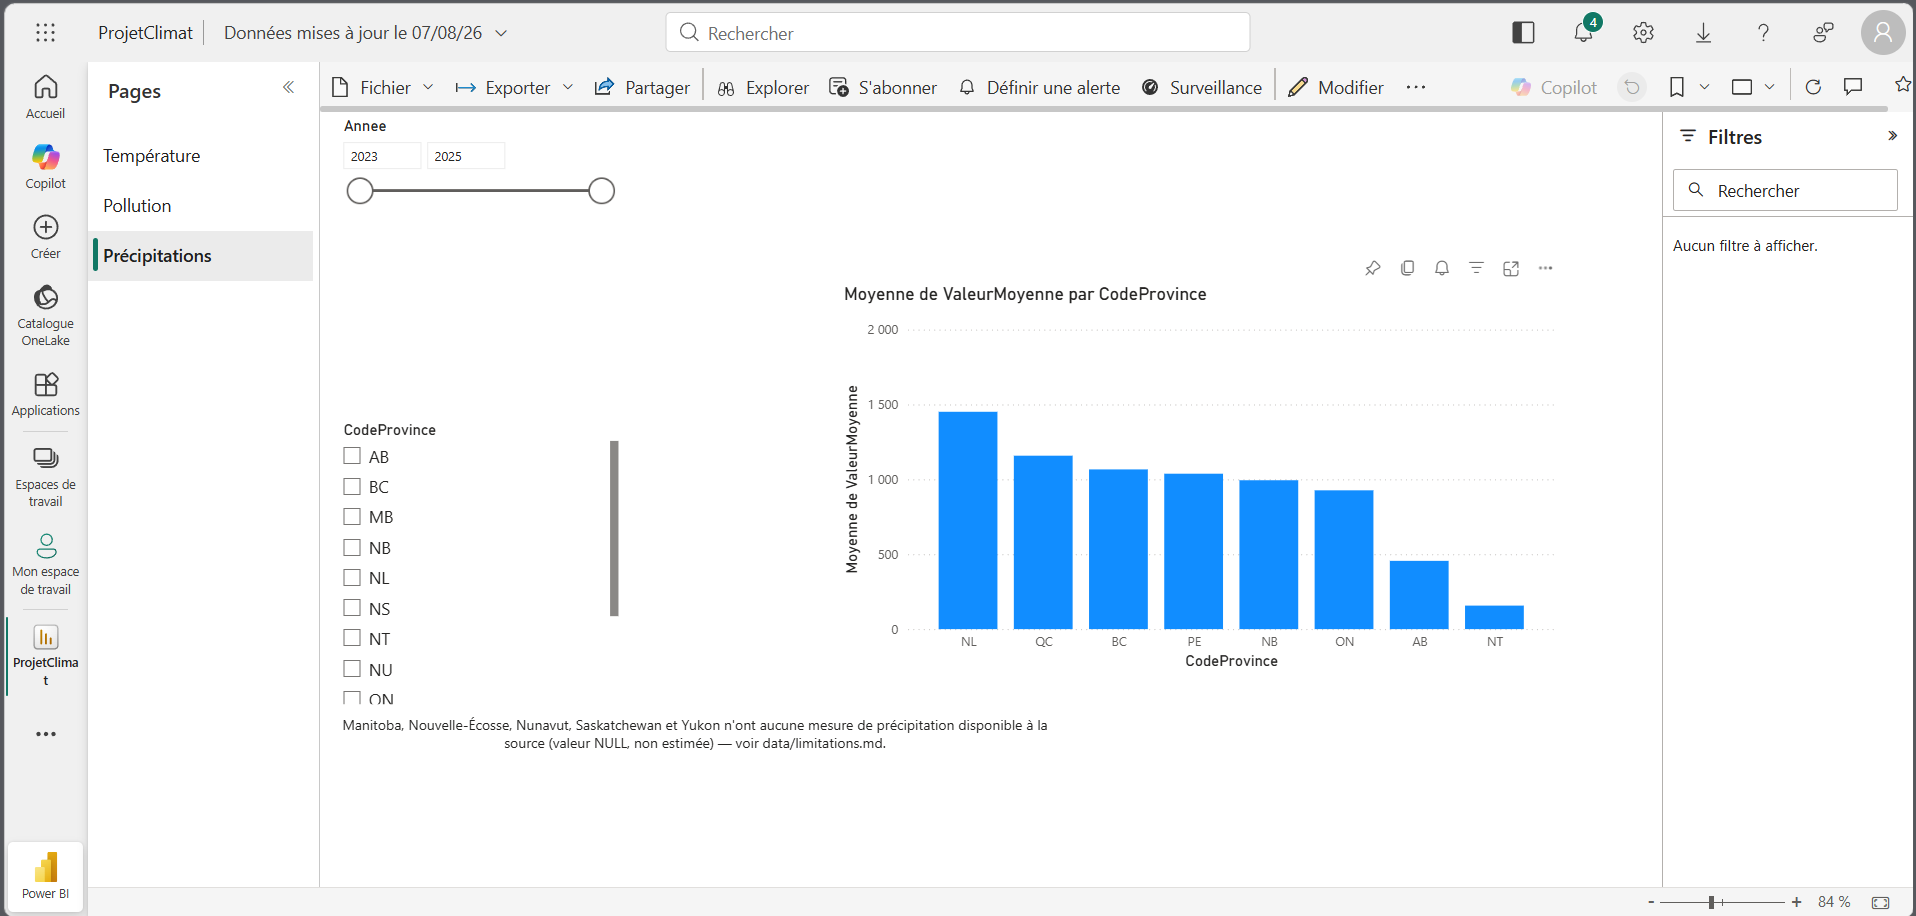

What the dashboard file says about the page in this screenshot:
{"tool":"powerbi","page":{"name":"Précipitations","canvas":[1280,720],"ordinal":2},"visuals":[{"type":"slicer","fields":{"Values":["vwPrecipitations.Annee"]},"box":[10,0,280,280],"z":0},{"type":"slicer","fields":{"Values":["vwPrecipitations.CodeProvince"]},"box":[10,290,280,280],"z":1000},{"type":"clusteredColumnChart","fields":{"Category":["vwPrecipitations.CodeProvince"],"Y":["Avg(vwPrecipitations.ValeurMoyenne)"]},"box":[495,163.8,688.8,373.8],"z":2000},{"type":"textbox","box":[10,570,696.2,50],"z":3000}]}

Visuals, with their boxes on the page's 1280x720 design canvas (x1, y1, x2, y2). These are canvas units, not pixel positions in the 1916x916 screenshot, which may show the page scaled, cropped or inside an application window:
slicer - vwPrecipitations.Annee: (x1=10, y1=0, x2=290, y2=280)
slicer - vwPrecipitations.CodeProvince: (x1=10, y1=290, x2=290, y2=570)
clusteredColumnChart - vwPrecipitations.CodeProvince x Avg(vwPrecipitations.ValeurMoyenne): (x1=495, y1=164, x2=1184, y2=538)
textbox: (x1=10, y1=570, x2=706, y2=620)
